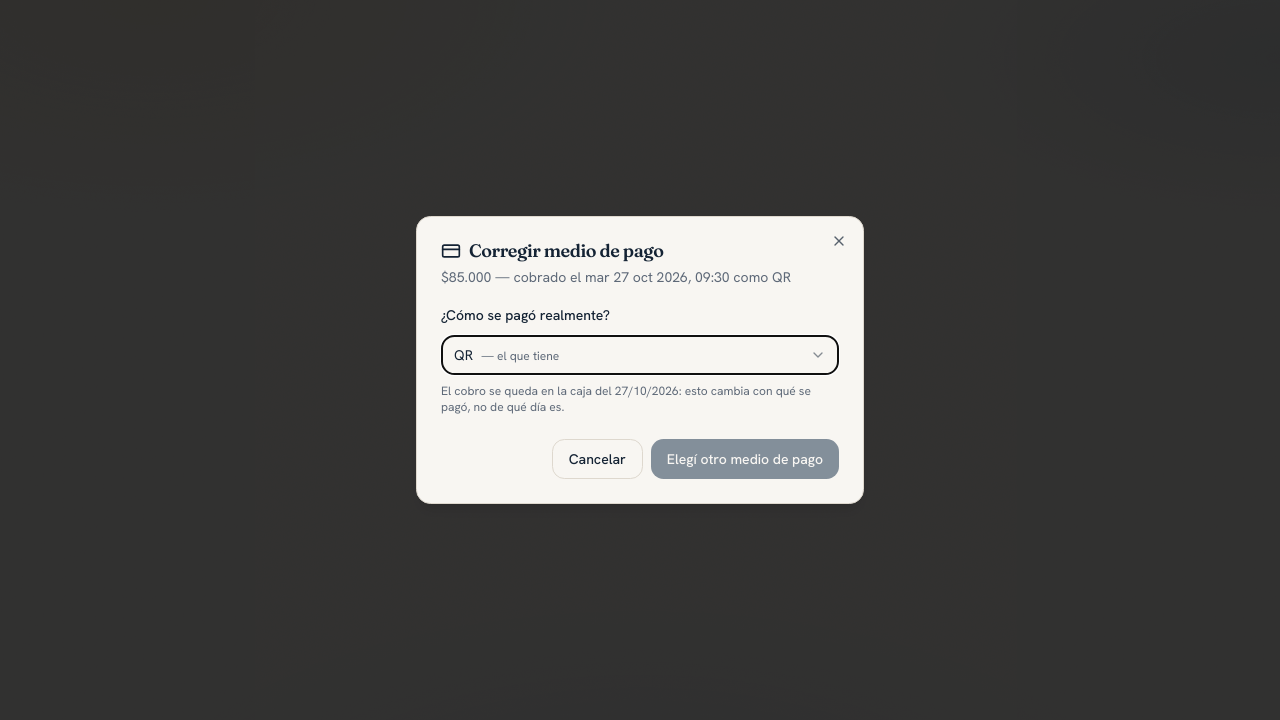
el diálogo de corregir medio de pago › cambiar de método otra vez vuelve a pedir confirmación
Click the dropdown at (520, 356), box left=441, top=335, right=839, bottom=375
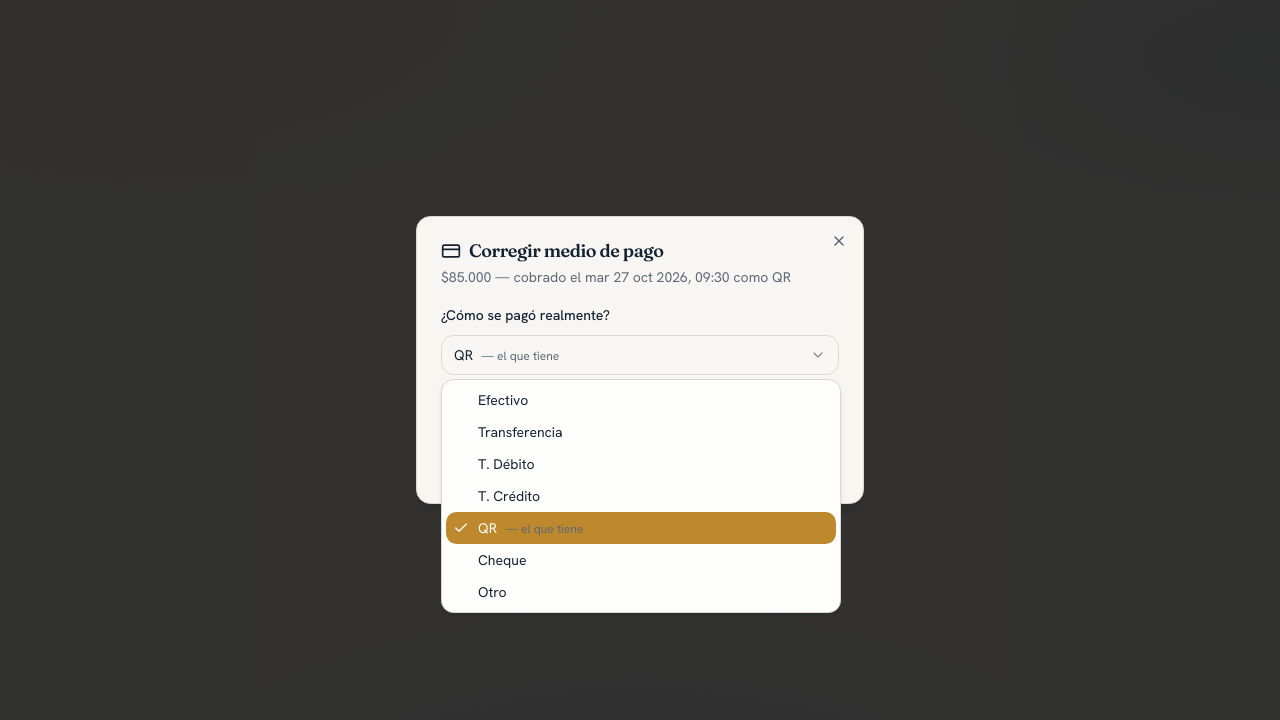
Click the option "Efectivo" at (503, 400), box left=478, top=391, right=528, bottom=409
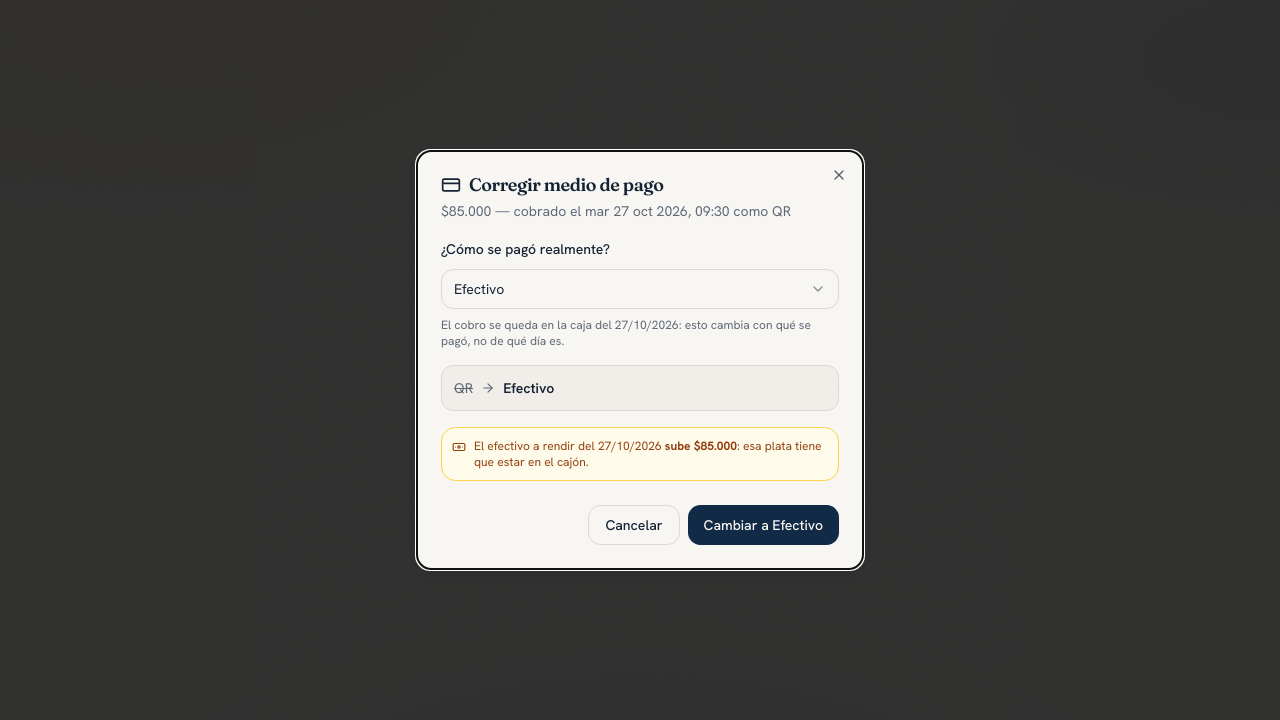
Click the button "Cambiar a Efectivo" at (763, 525), box left=688, top=505, right=839, bottom=545
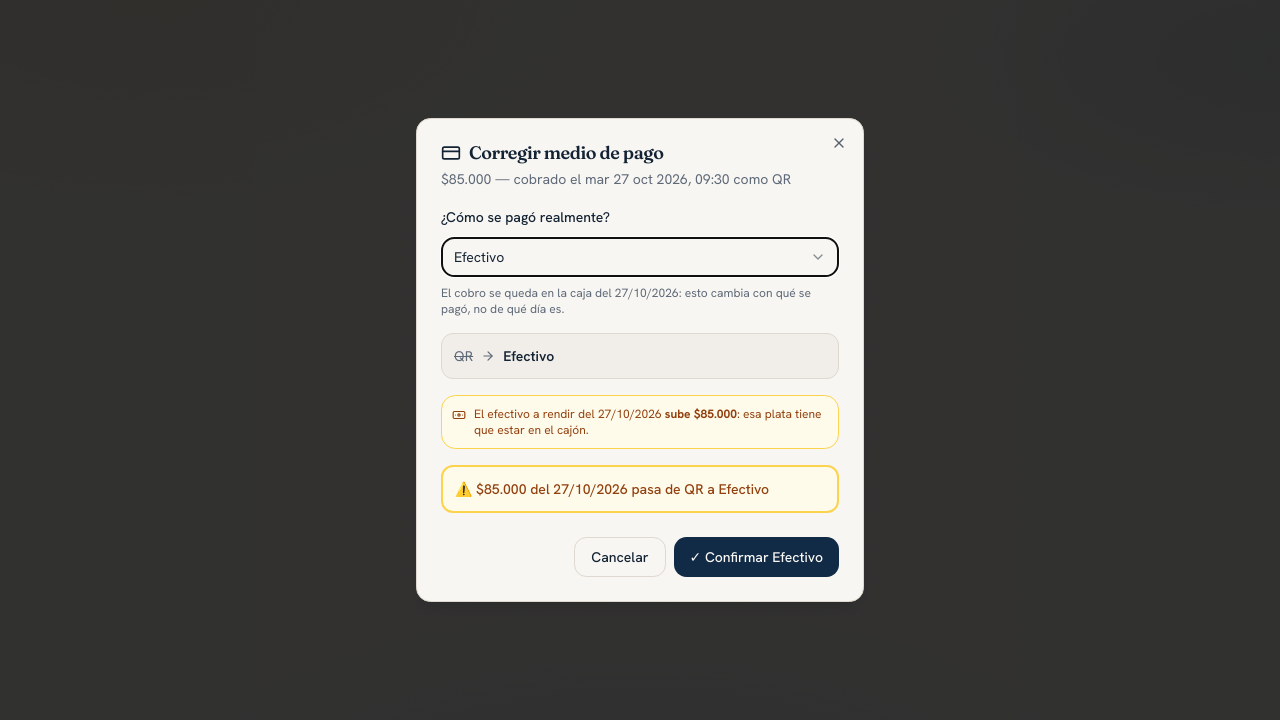
Expected: the button "✓ Confirmar Efectivo" is shown, left=674, top=537, right=839, bottom=577
Click the dropdown at (479, 257), box left=441, top=237, right=839, bottom=277
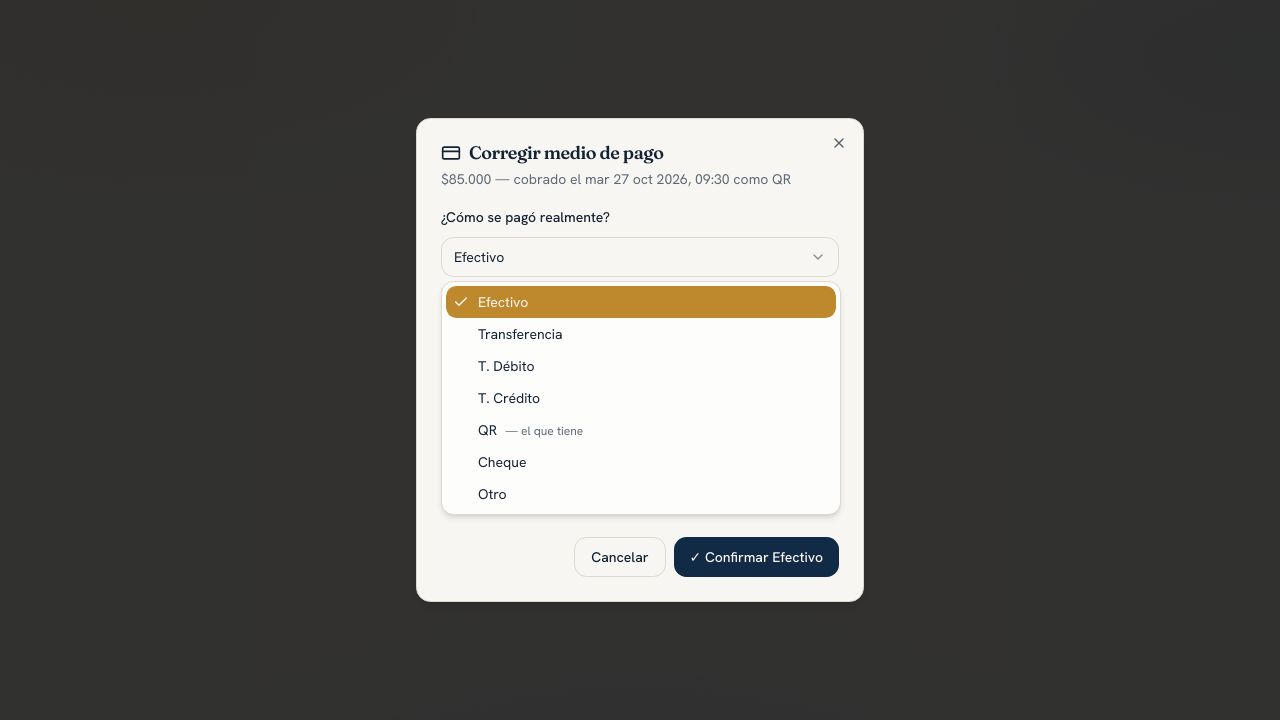
Click the option "Transferencia" at (520, 334), box left=478, top=325, right=563, bottom=343
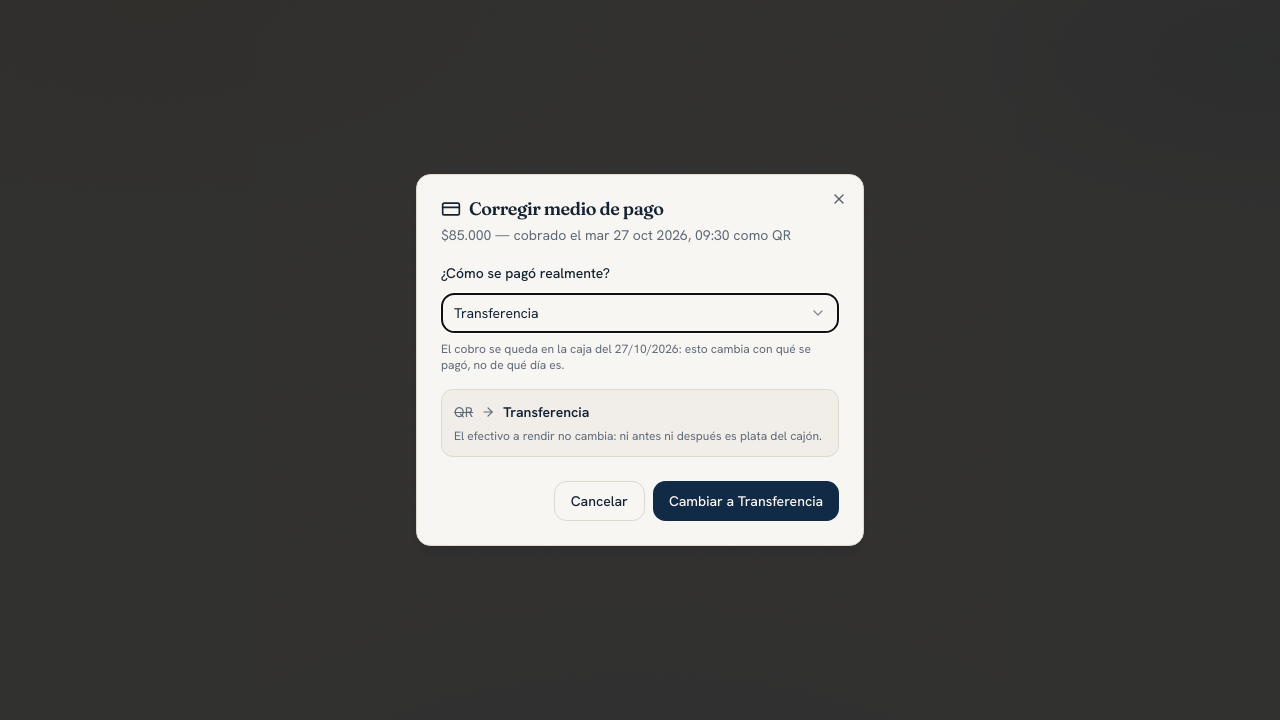
Expected: the button "Confirmar" is gone
